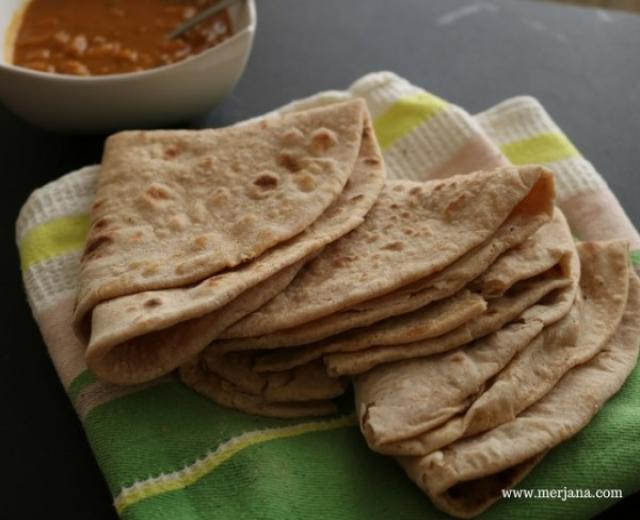chapati: (71, 98, 639, 514)
